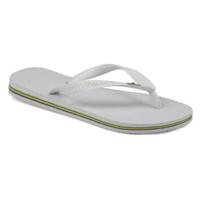shoe: (10, 64, 192, 135)
